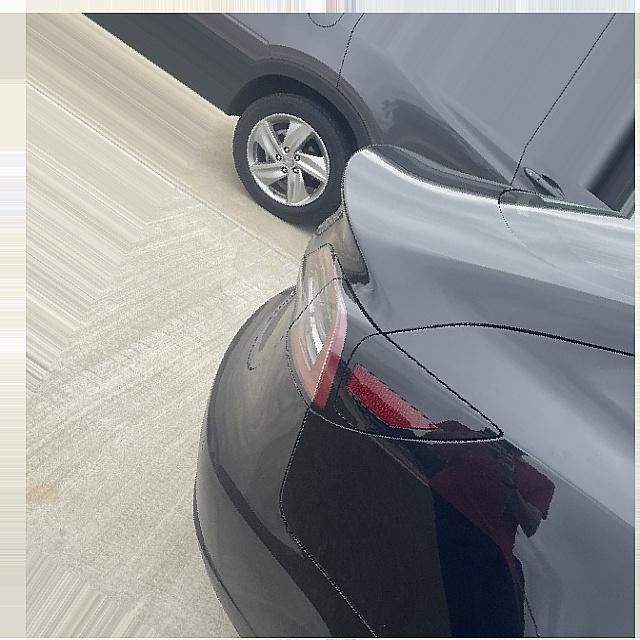reflector: (337, 361, 442, 449)
